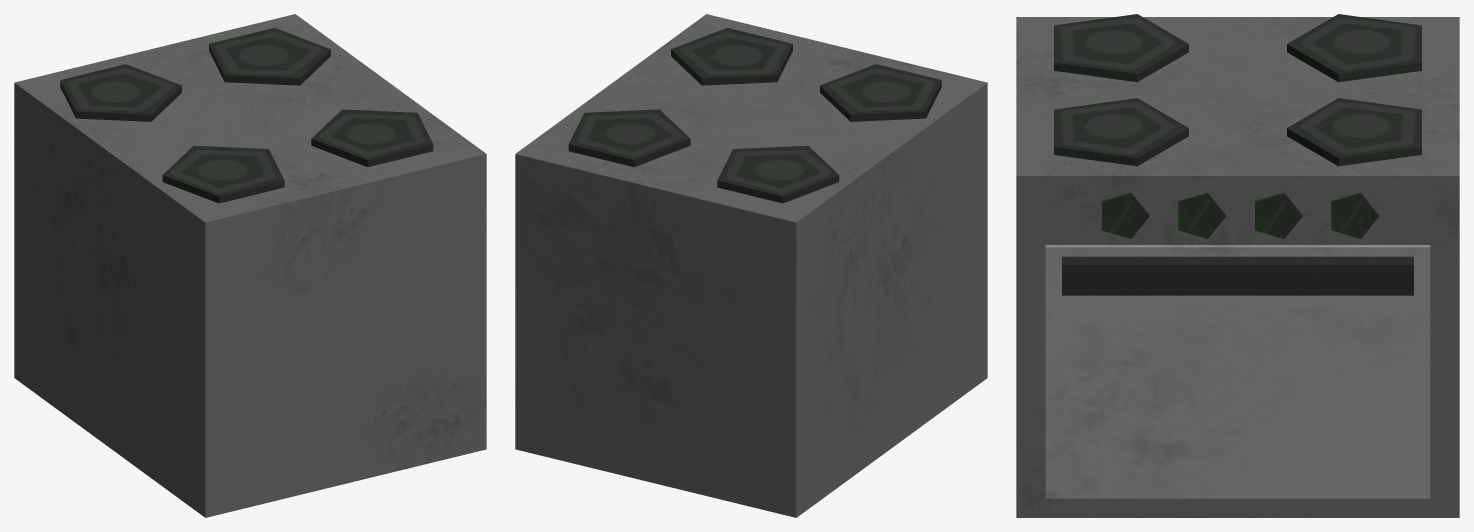
The model's file is fogao.glb.
3 renders of one model, left to right at view 1: azimuth 30°, elevation 25°; view 2: azimuth 150°, elevation 25°; view 3: azimuth 270°, elevation 25°, orthographic. The views are drawn at different scales.
Visible parts, largest first — view 1: Cube.008; view 2: Cube.008; view 3: Cube.008.
Part boxes in pixels (box(x1,y1,x2,y2)): Cube.008: box(14, 14, 486, 517); Cube.008: box(515, 14, 987, 517); Cube.008: box(1016, 14, 1459, 517).
Bounding box in the file's own units: 1.81 × 1.74 × 2.
Materials: 1 (1 with a texture image).
